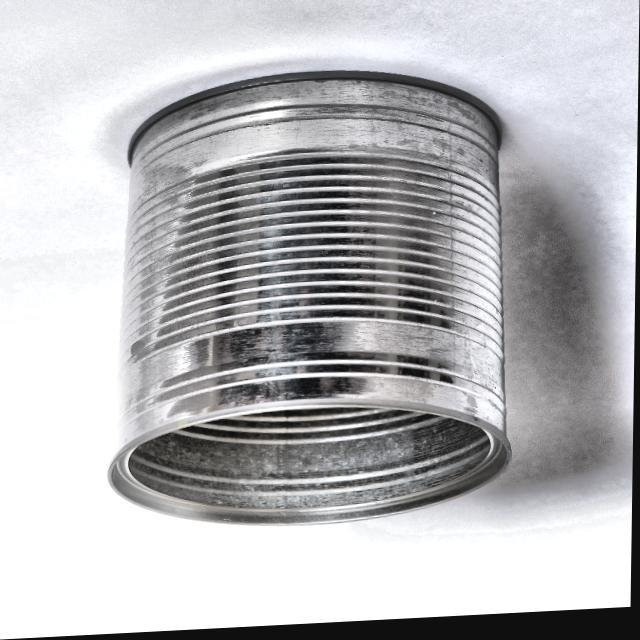litter: (103, 62, 528, 546)
